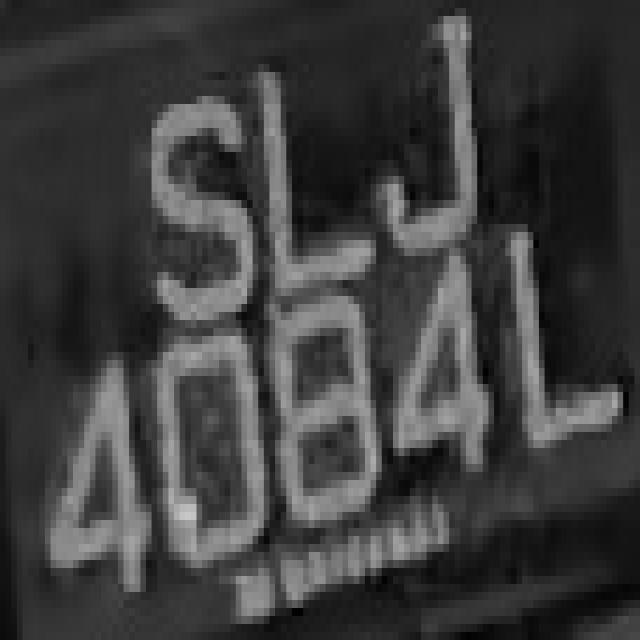0: (135, 288, 275, 576)
4: (359, 232, 494, 496), (17, 336, 151, 576)
8: (253, 296, 387, 520)
J: (371, 24, 494, 264)
L: (488, 208, 640, 472), (258, 64, 382, 296)
S: (124, 64, 258, 344)
